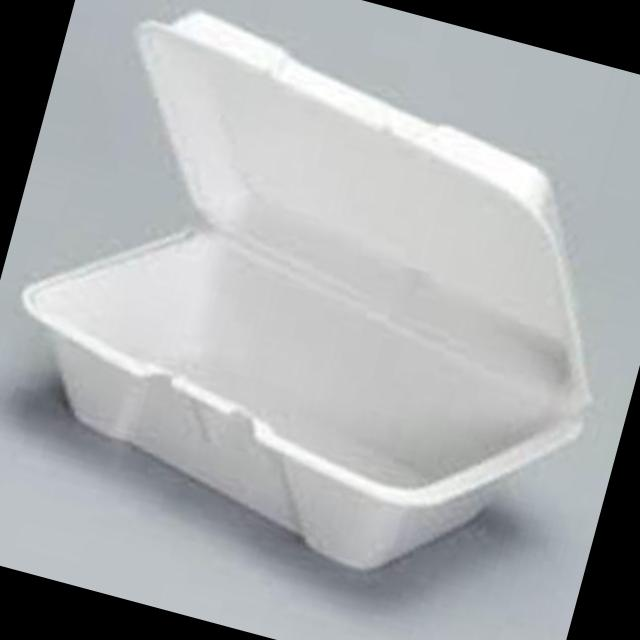styrofoam: (0, 0, 640, 619)
